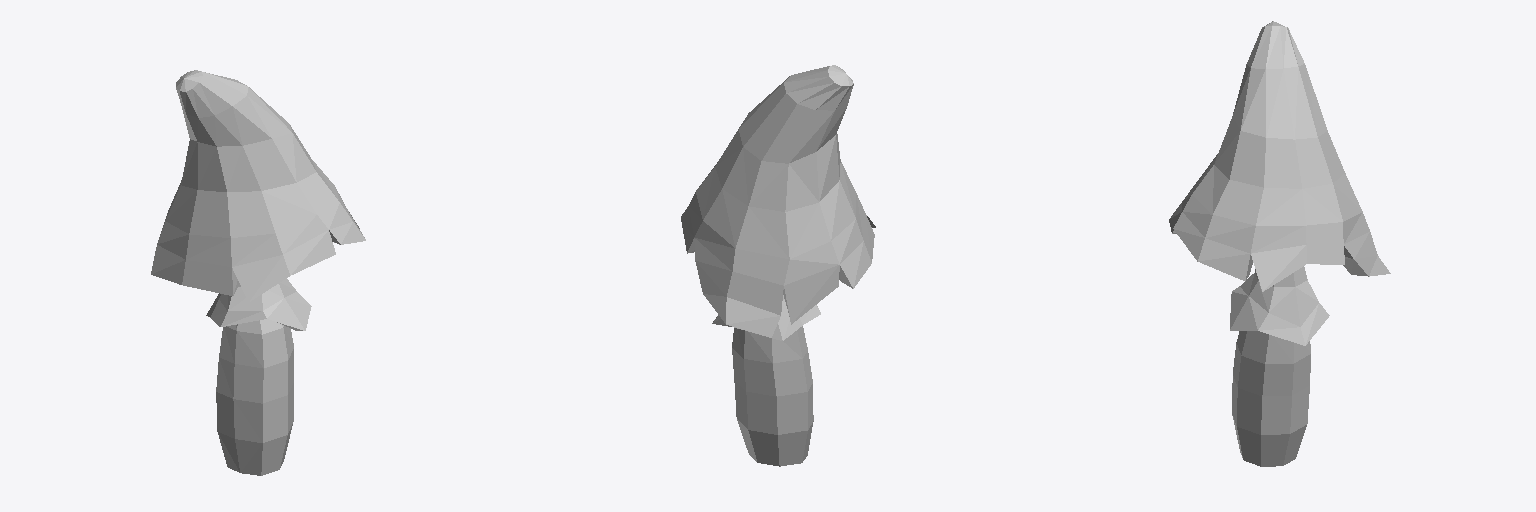
File: Mushroom_Purple_2.obj
3 renders of one model, left to right at view 1: azimuth 30°, elevation 25°; view 2: azimuth 150°, elevation 25°; view 3: azimuth 270°, elevation 25°, orthographic.
Parts seen in each view (by area): view 1: PP_Mushroom_Fantasy_Purple_08.002; view 2: PP_Mushroom_Fantasy_Purple_08.002; view 3: PP_Mushroom_Fantasy_Purple_08.002.
Boxes of the visible parts, box(x1,y1,x2,y2) form: PP_Mushroom_Fantasy_Purple_08.002: box(151, 70, 365, 475); PP_Mushroom_Fantasy_Purple_08.002: box(681, 65, 875, 466); PP_Mushroom_Fantasy_Purple_08.002: box(1169, 21, 1390, 466).
Size of the model in its own units: 0.1454 by 0.2937 by 0.1467.